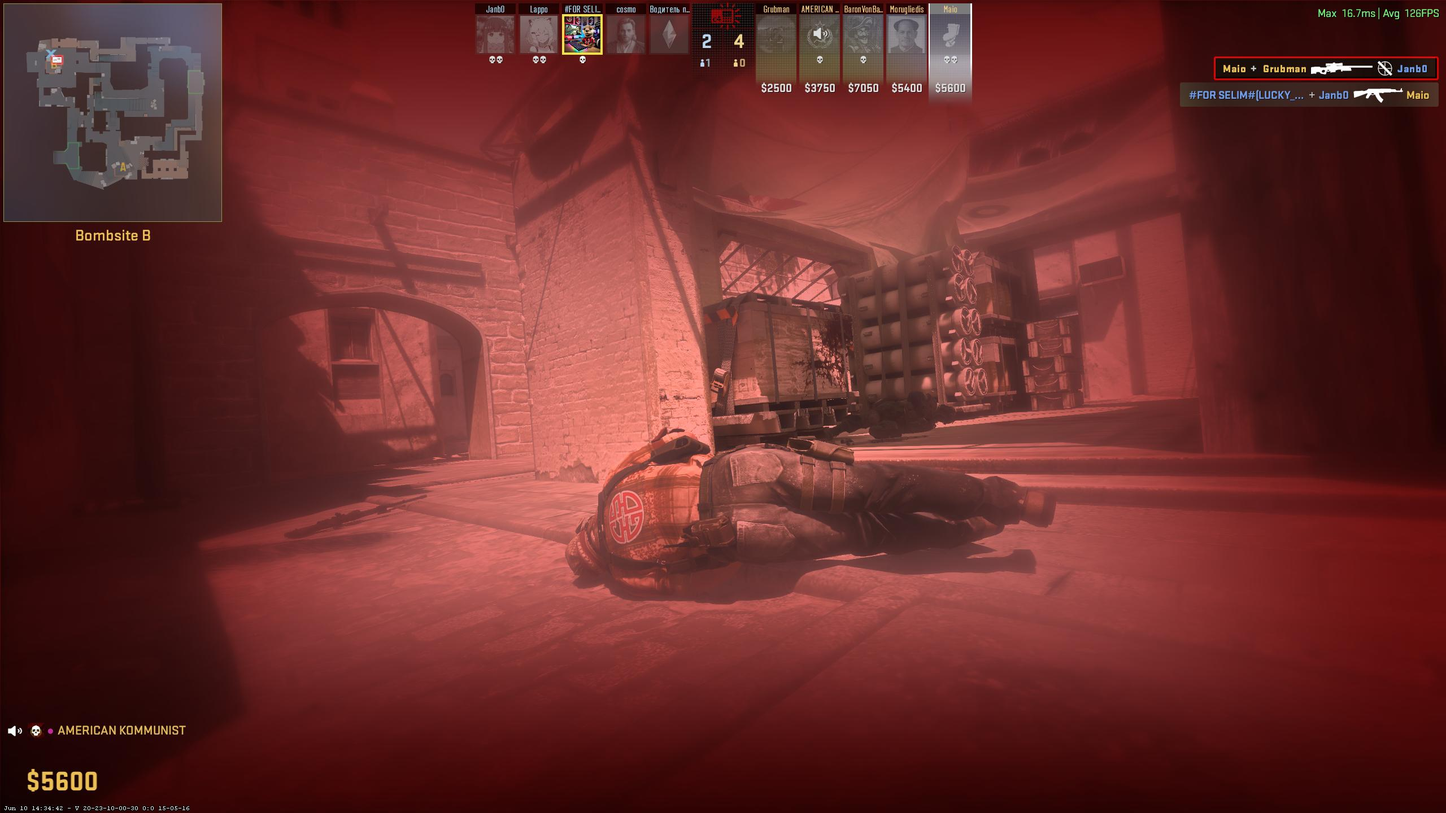Terrorist: (571, 427, 952, 594)
